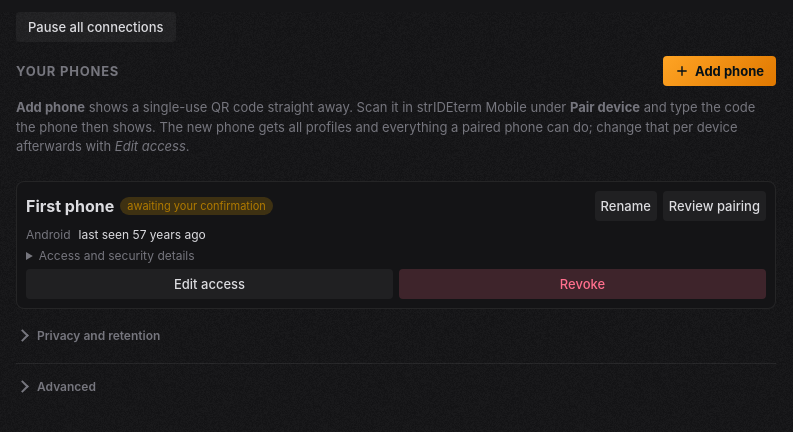
SettingsMobileTab › Review pairing on a phone with no derivable code says so instead of opening a prompt
Click the button "Review pairing" at (714, 206), box x1=663 y1=190 x2=766 y2=220
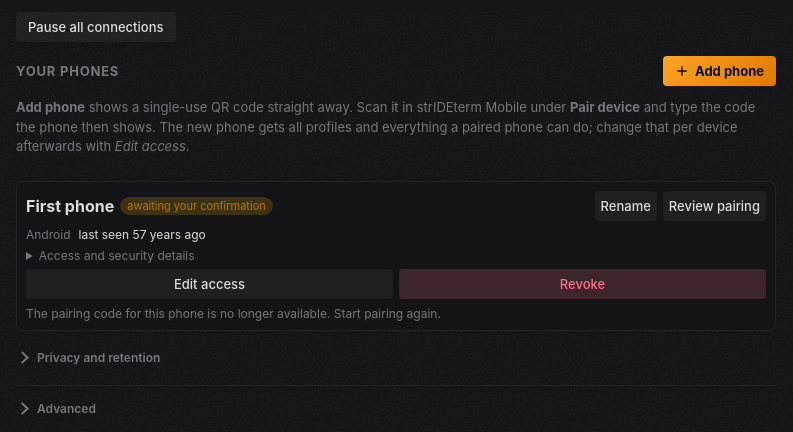
Expected: the text "The pairing code for this phone is no longer available" is shown, x1=26 y1=306 x2=441 y2=320
